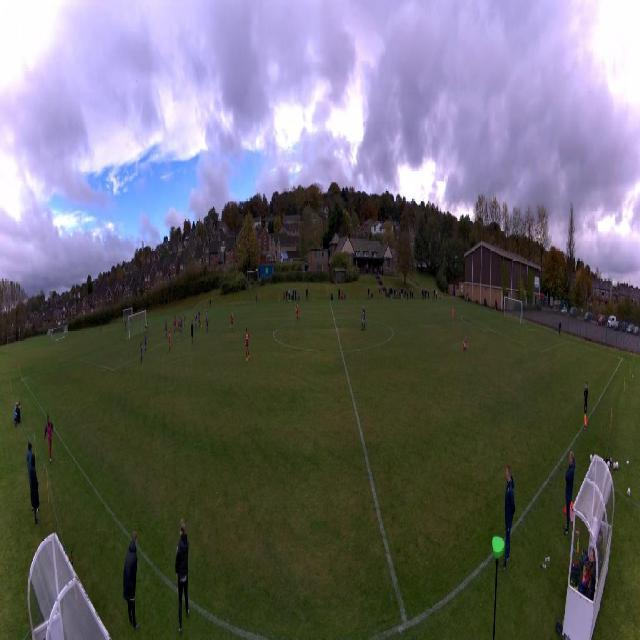ball: (201, 324, 202, 328)
player: (245, 328, 250, 359), (361, 305, 365, 330), (295, 302, 300, 322), (462, 338, 469, 350), (203, 308, 208, 324), (230, 312, 234, 331), (168, 330, 171, 352), (140, 340, 143, 362), (191, 322, 194, 344), (144, 334, 147, 354), (451, 306, 454, 326), (164, 320, 167, 339), (178, 316, 181, 333), (206, 316, 209, 333), (195, 313, 198, 329), (199, 315, 202, 329), (173, 316, 175, 334), (145, 323, 148, 335), (198, 312, 201, 324), (180, 316, 182, 333), (175, 316, 177, 332), (184, 314, 186, 328)
